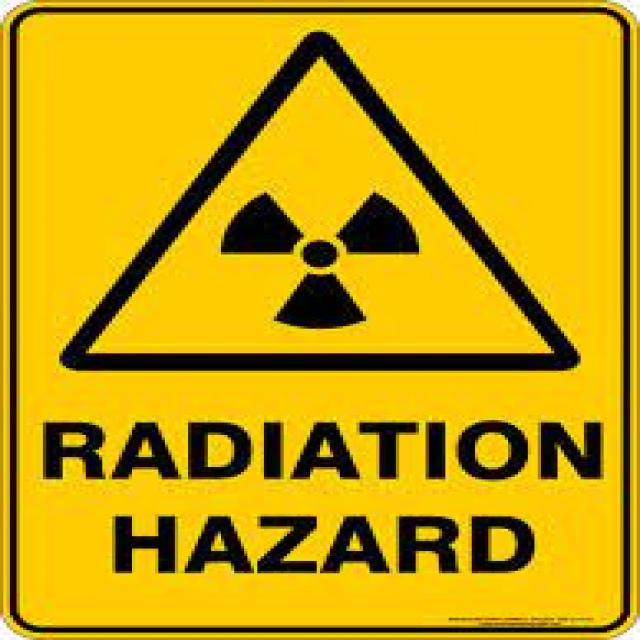radiation-risk: (38, 47, 597, 619)
